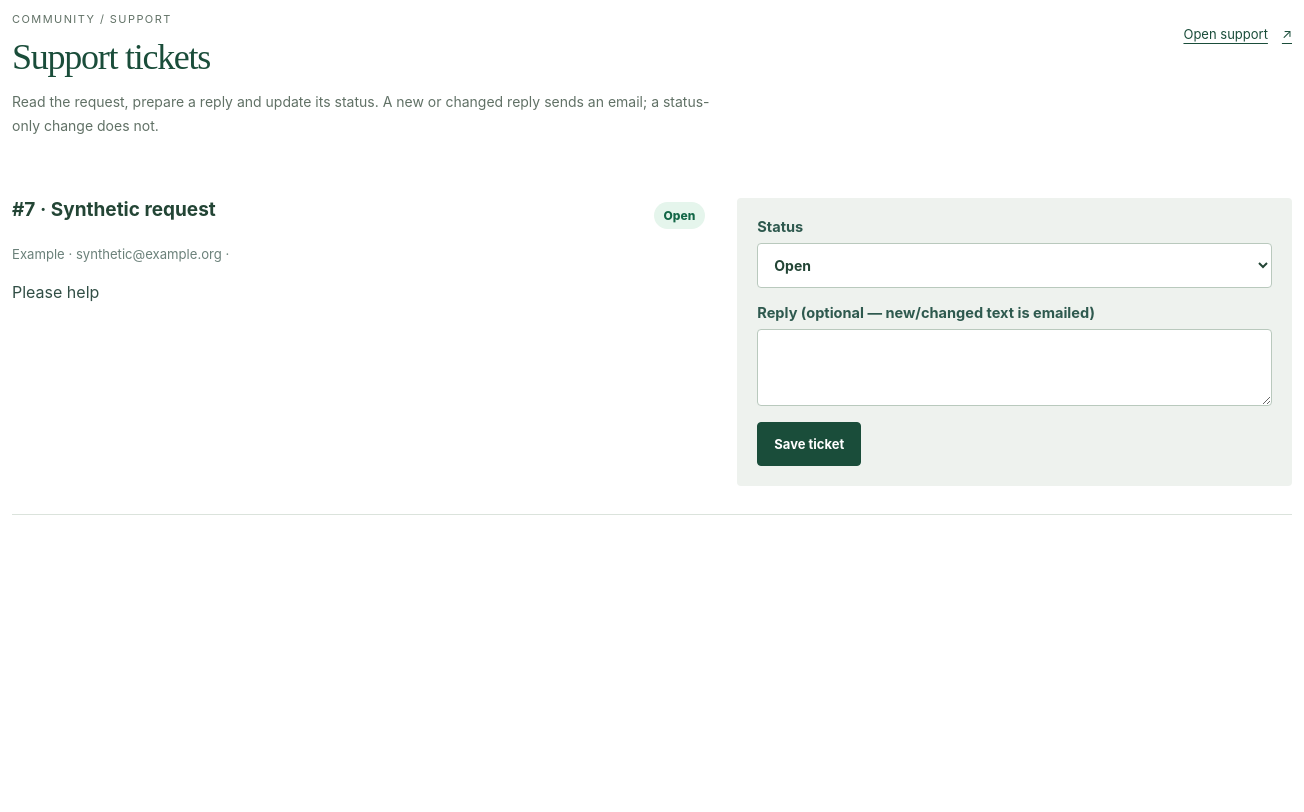
Test case: failed support update retains the reply and exposes failure
This screenshot has width=1304, height=812.
In the text box labelled "Reply (optional — new/changed text is emailed)": (1015, 367) left=757, top=329, right=1272, bottom=406, type "Keep this draft"
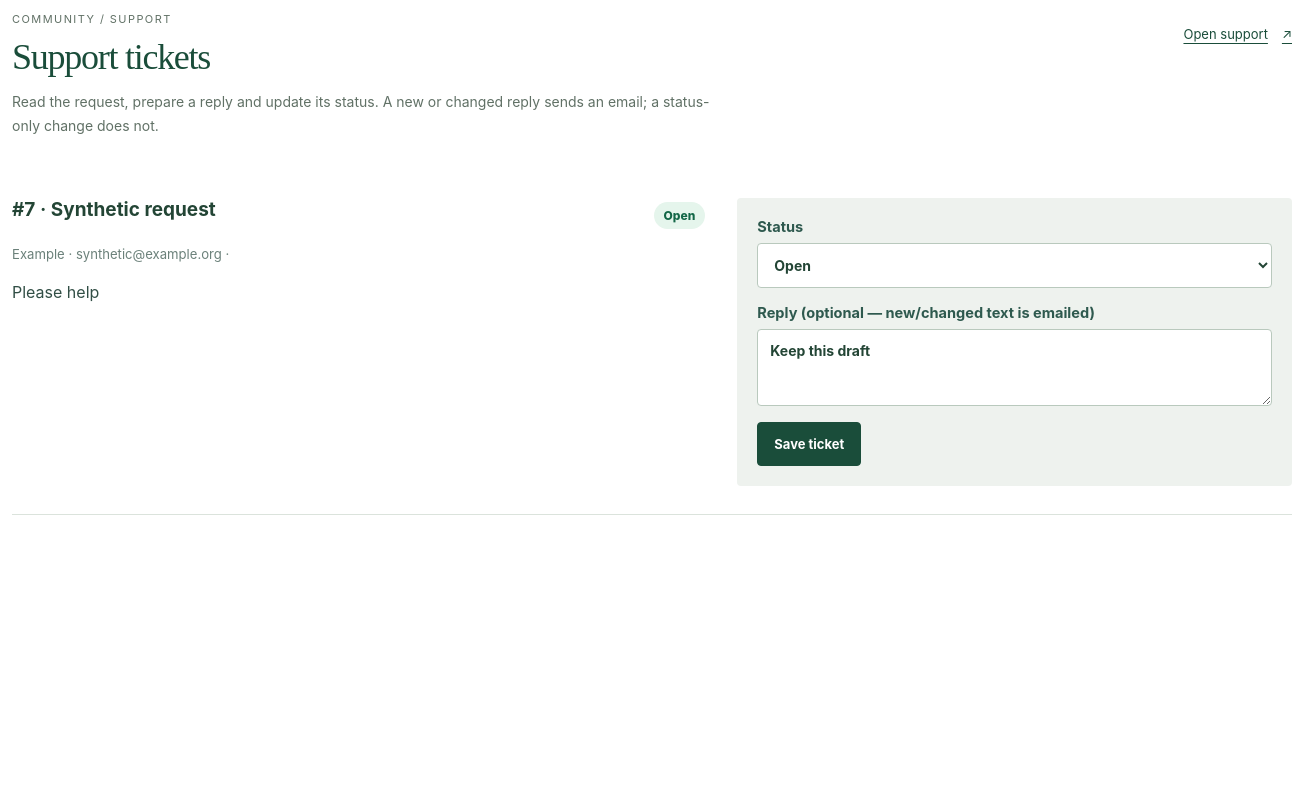
Click the button "Save ticket": (809, 444) left=757, top=422, right=861, bottom=466
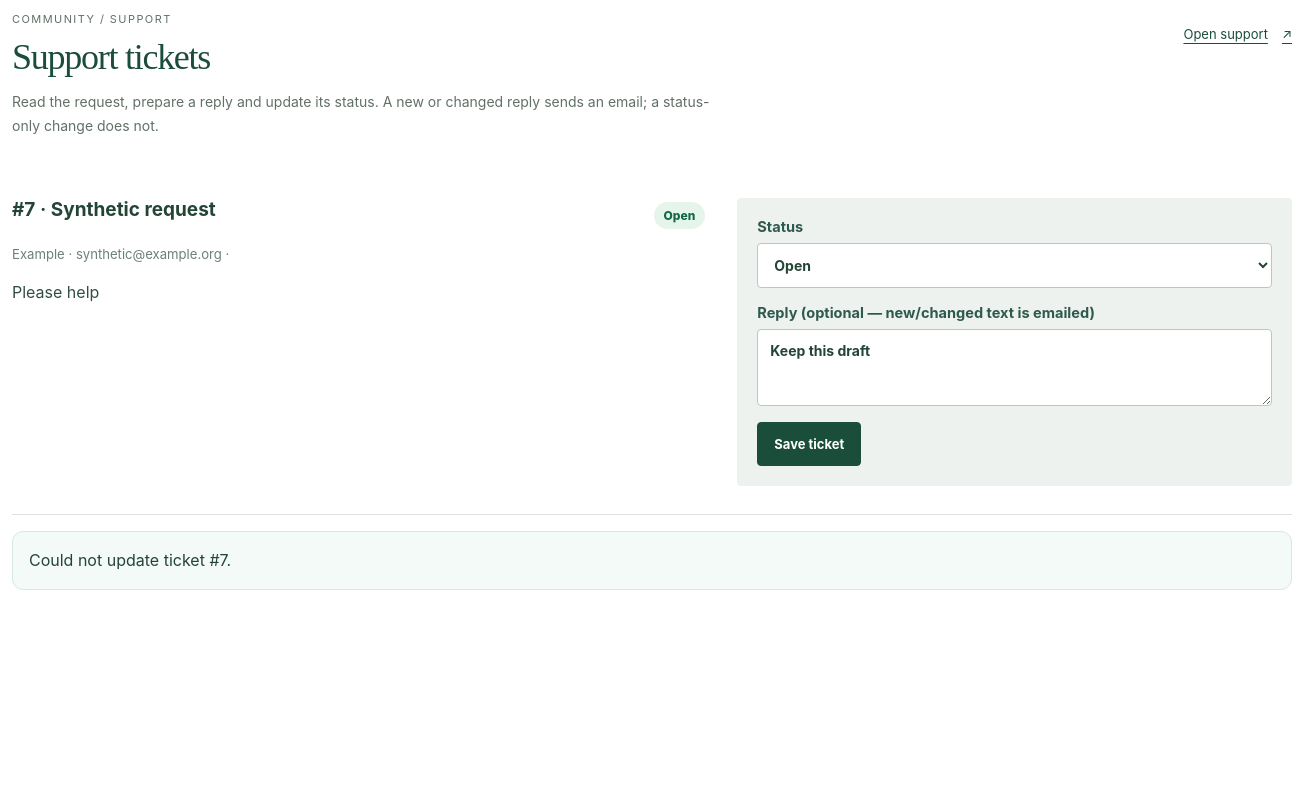
Result: the text "Could not update ticket #7." is shown at left=12, top=531, right=1292, bottom=590
